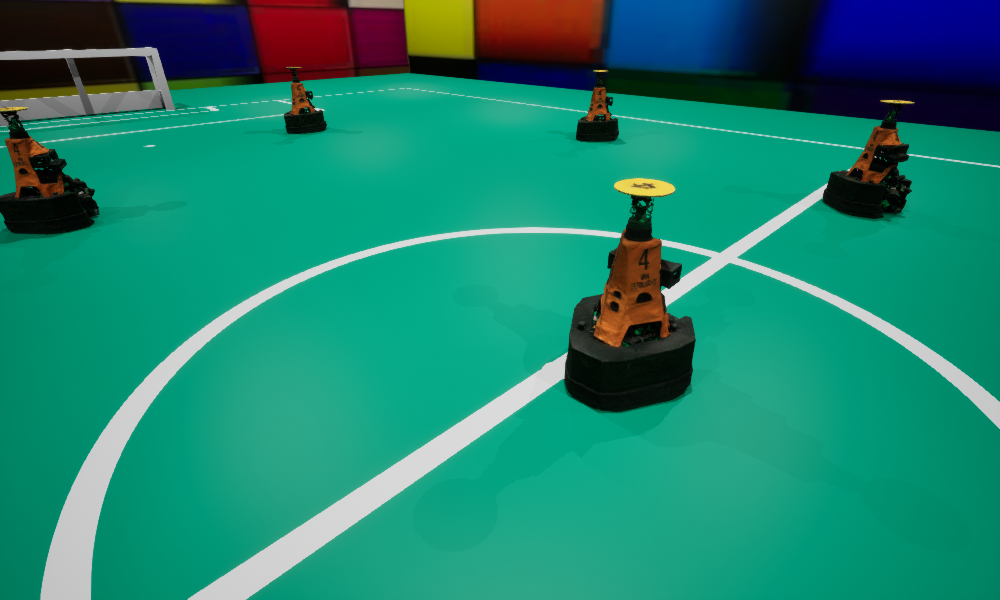0 orange robot TechUnited: (564, 178, 695, 411), (0, 107, 98, 234), (823, 100, 914, 218), (576, 70, 618, 141), (284, 67, 326, 133)
